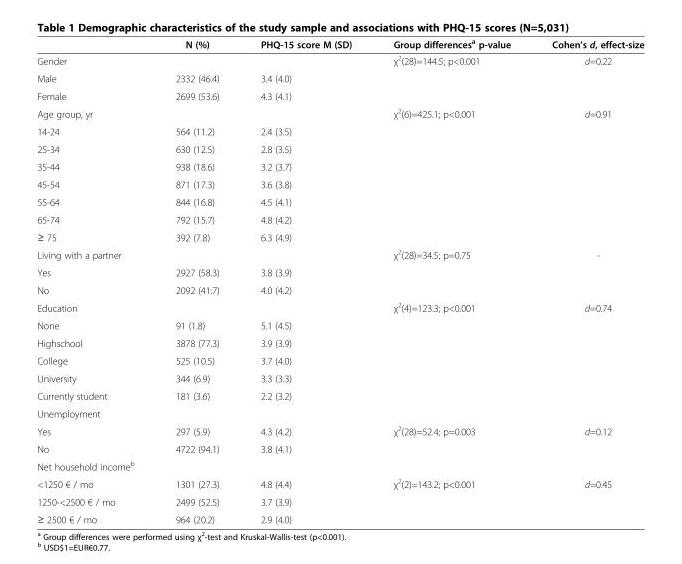table: (36, 36, 643, 524)
table column: (371, 36, 530, 524), (239, 36, 371, 524), (36, 36, 154, 524), (530, 36, 643, 524), (154, 36, 239, 524)
table column header: (36, 36, 643, 51)
table projected row header: (36, 456, 643, 474), (36, 404, 643, 421)
table row: (36, 103, 643, 122), (36, 297, 643, 316), (36, 51, 643, 69), (36, 69, 643, 87), (36, 122, 643, 140), (36, 157, 643, 175), (36, 192, 643, 210), (36, 210, 643, 228), (36, 245, 643, 263), (36, 263, 643, 281), (36, 316, 643, 334), (36, 351, 643, 369), (36, 386, 643, 404), (36, 421, 643, 439), (36, 456, 643, 474), (36, 474, 643, 492), (36, 492, 643, 510), (36, 140, 643, 157), (36, 175, 643, 192), (36, 228, 643, 245), (36, 334, 643, 351), (36, 369, 643, 386), (36, 404, 643, 421), (36, 439, 643, 456), (36, 87, 643, 103), (36, 281, 643, 297), (36, 36, 643, 51), (36, 510, 643, 524)
